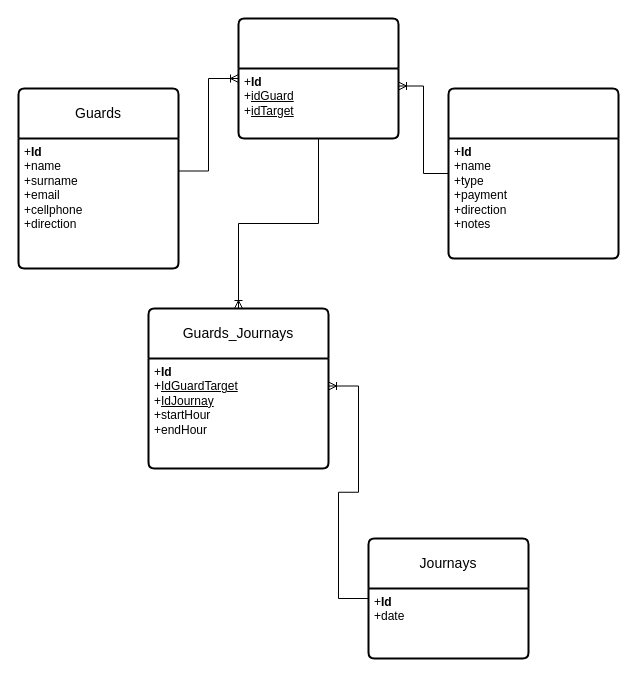
The diagram is 636 pixels wide and 676 high, and some of its shapes have lost their labels. Each missing label, with the box of its shape:
Guards_Targets: (237, 17, 399, 139)
Targets: (447, 87, 619, 259)
